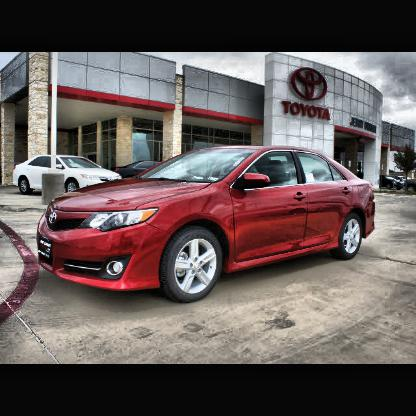Toyota Camry Sedan 2012: (37, 144, 377, 304)
